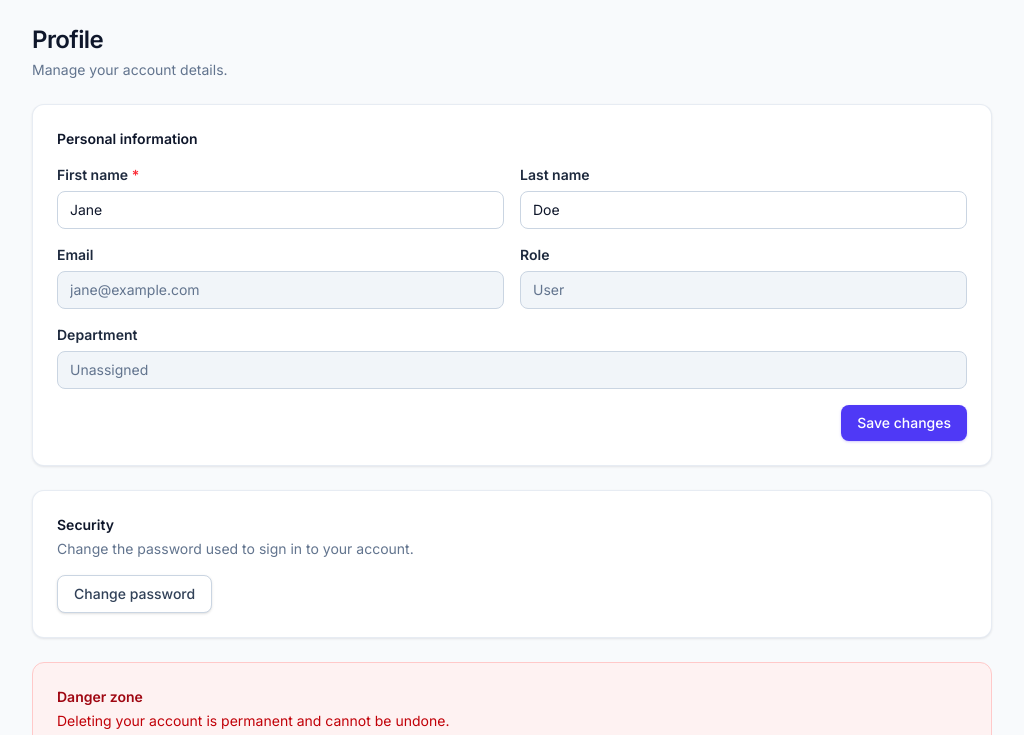
Test: ProfilePage › requires a first name before saving
Clear the field labelled "First name *" at [280, 210], box [57,191,504,229]
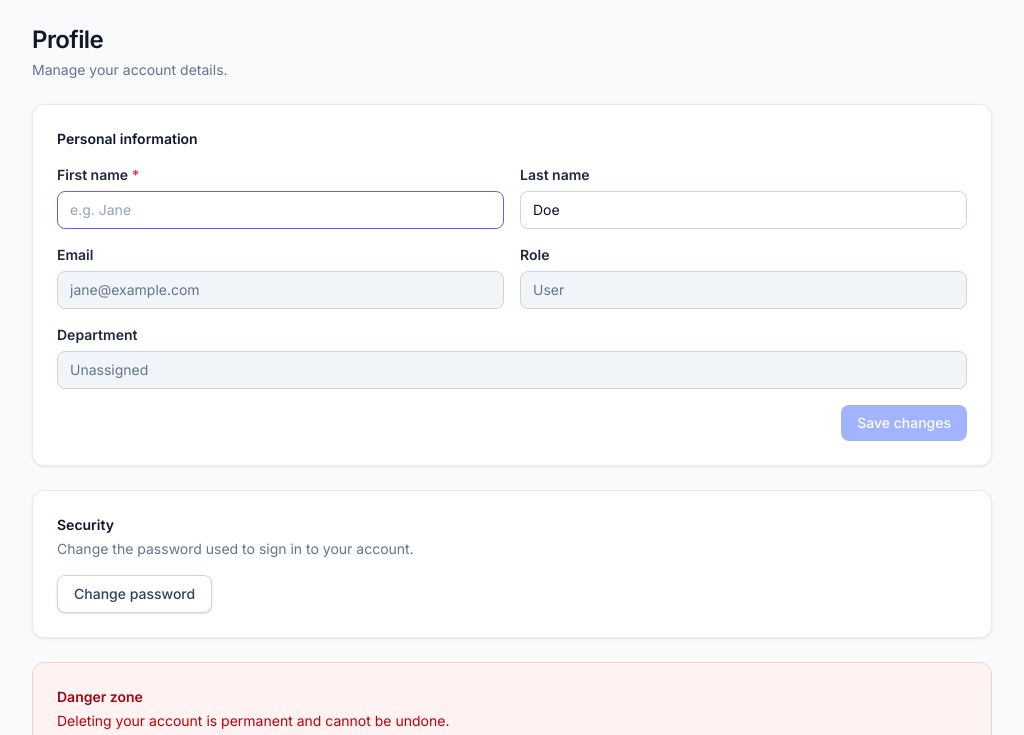
Click the field labelled "Last name".
click(744, 210)  # box [520,191,967,229]
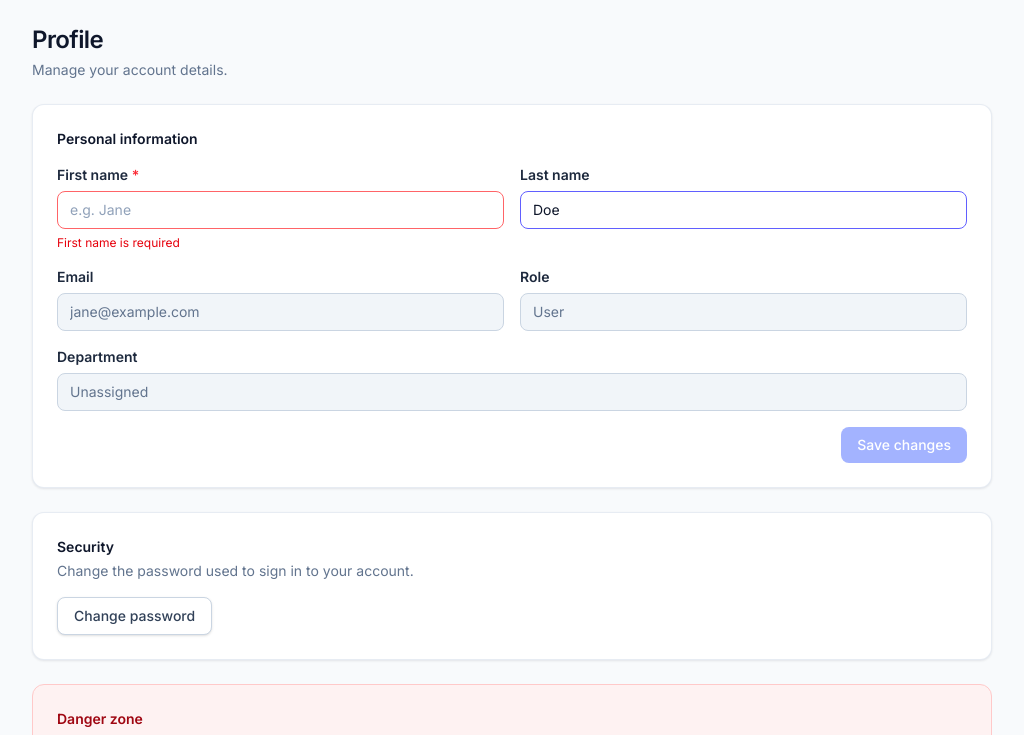
Expected: the button "Save changes" is disabled, [841,427,967,463]
Expected: the message reads "First name is required", [57,235,180,250]
